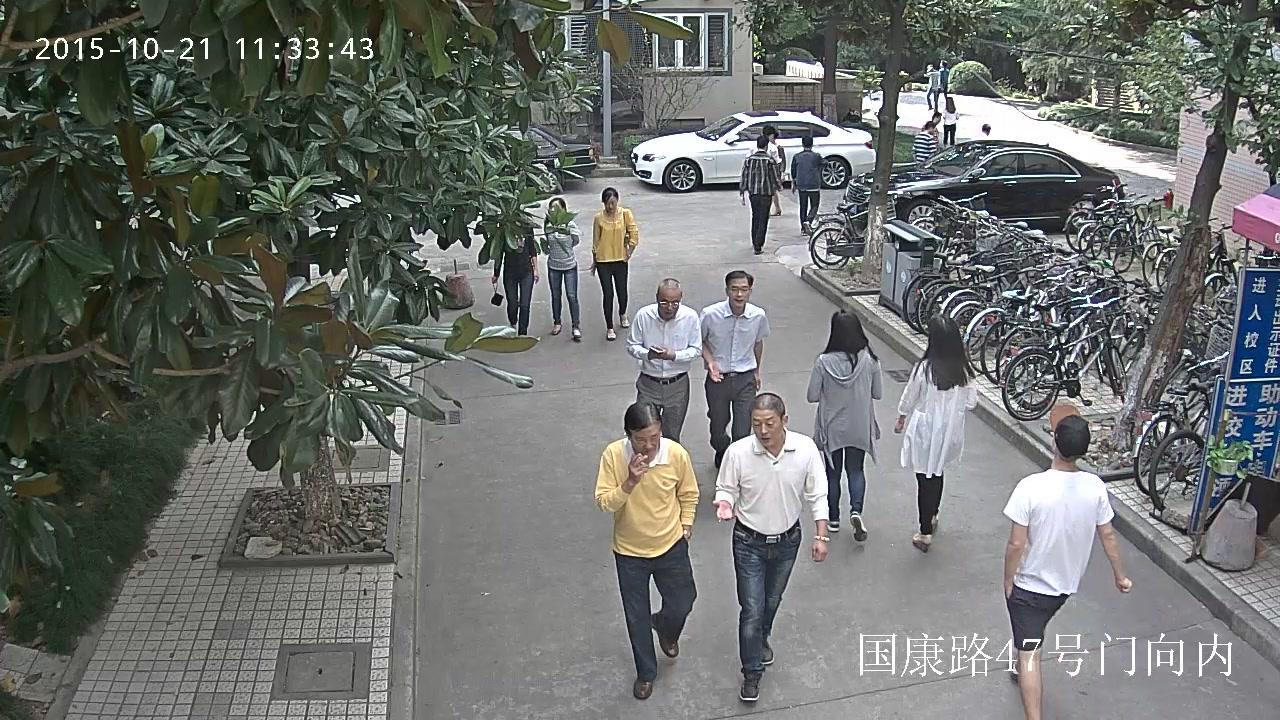face: (750, 410, 781, 444), (631, 425, 660, 459), (657, 288, 681, 317), (728, 277, 749, 306), (604, 196, 617, 211), (551, 200, 564, 211), (932, 124, 936, 133), (769, 133, 774, 140), (935, 115, 939, 122), (926, 64, 930, 71), (939, 59, 942, 67)
